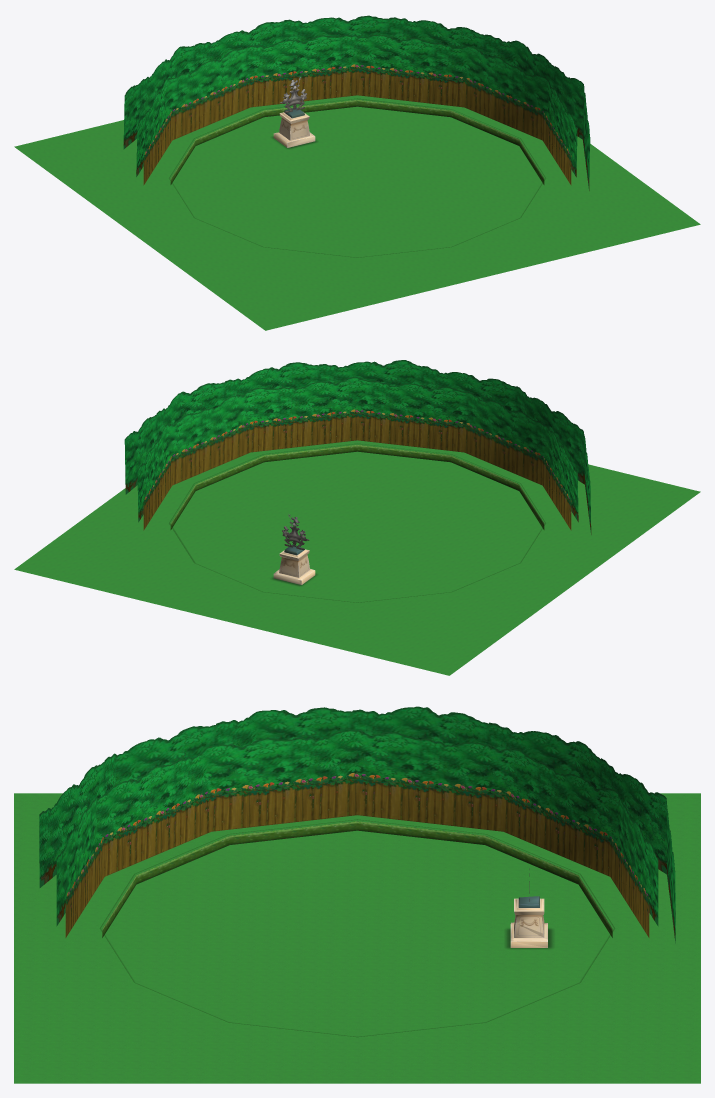
File: tag_arena.glb
3 views of the same model, one above another, from view 1: azimuth 30°, elevation 25°; view 2: azimuth 150°, elevation 25°; view 3: azimuth 270°, elevation 25° (orthographic). The views are drawn at different scales.
Parts seen in each view (by area): view 1: tag_arena_grass, tag_arena, tag_arena_trees, tag_arena_wall, base; view 2: tag_arena_grass, tag_arena, tag_arena_trees, tag_arena_wall, base; view 3: tag_arena_grass, tag_arena, tag_arena_trees, tag_arena_wall, base.
Part boxes in pixels (<box>): tag_arena_grass: <box>14,95,700,330</box>; tag_arena: <box>123,15,590,190</box>; tag_arena_trees: <box>143,64,571,185</box>; tag_arena_wall: <box>169,98,545,257</box>; base: <box>278,107,315,147</box>; tag_arena_grass: <box>14,440,700,675</box>; tag_arena: <box>124,360,591,534</box>; tag_arena_trees: <box>143,409,571,530</box>; tag_arena_wall: <box>169,444,545,602</box>; base: <box>273,544,310,584</box>; tag_arena_grass: <box>14,793,700,1083</box>; tag_arena: <box>39,706,675,943</box>; tag_arena_trees: <box>65,772,649,937</box>; tag_arena_wall: <box>100,819,614,1036</box>; base: <box>510,896,547,947</box>.
Size of the model in its own units: 200 by 32.12 by 200.
10 materials, 10 textured.
